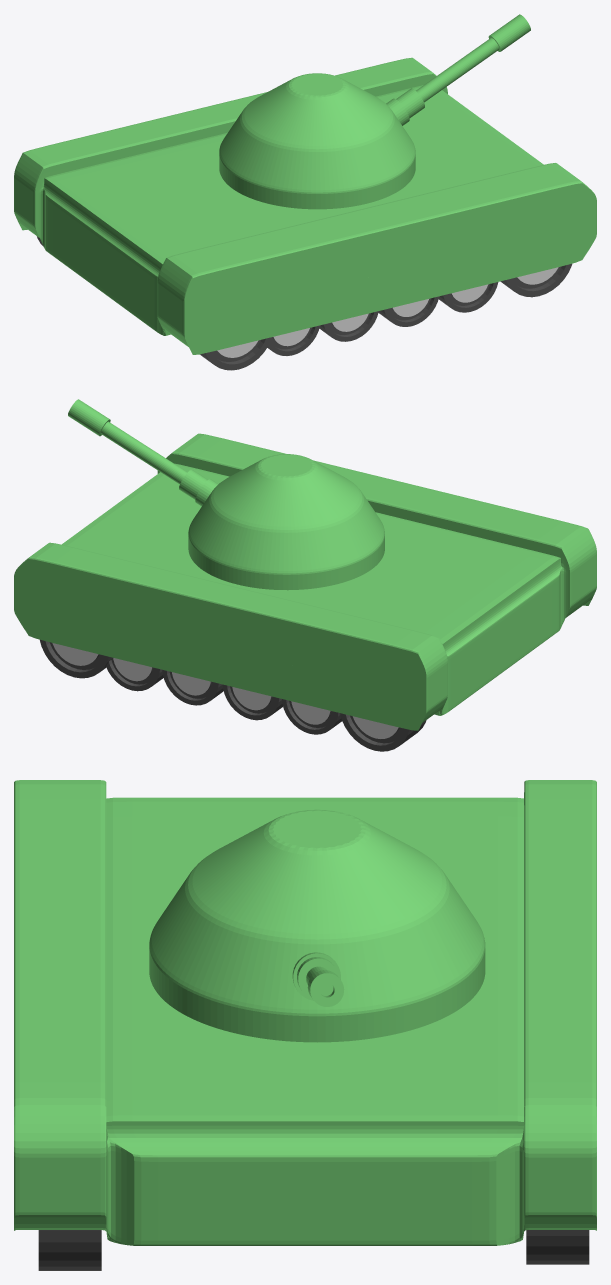
Rendered from Meme_tank.fbx.
The picture shows the model from 3 angles, top to bottom: view 1: azimuth 30°, elevation 25°; view 2: azimuth 150°, elevation 25°; view 3: azimuth 270°, elevation 25°; orthographic projection. The views are drawn at different scales.
Parts seen in each view (by area): view 1: Cube, Cylinder.012, Cylinder.006, Cylinder.007, Cylinder.009, Cylinder.008, Cylinder.010, Cylinder.011; view 2: Cube, Cylinder.012, Cylinder.001, Cylinder, Cylinder.004, Cylinder.002, Cylinder.003, Cylinder.005; view 3: Cube, Cylinder.007, Cylinder, Cylinder.012.
Part boxes in pixels (x1,y1,x2,y2): Cube: [14, 57, 596, 354]; Cylinder.012: [386, 14, 530, 125]; Cylinder.006: [200, 337, 271, 370]; Cylinder.007: [500, 263, 572, 297]; Cylinder.009: [378, 296, 439, 326]; Cylinder.008: [438, 282, 498, 312]; Cylinder.010: [319, 311, 378, 341]; Cylinder.011: [267, 325, 319, 355]; Cube: [14, 433, 596, 730]; Cylinder.012: [68, 399, 218, 506]; Cylinder.001: [340, 713, 426, 751]; Cylinder: [40, 639, 111, 678]; Cylinder.004: [162, 670, 223, 705]; Cylinder.002: [282, 699, 341, 734]; Cylinder.003: [222, 684, 282, 720]; Cylinder.005: [106, 657, 163, 691]; Cube: [14, 780, 596, 1245]; Cylinder.007: [38, 1230, 101, 1270]; Cylinder: [526, 1230, 589, 1264]; Cylinder.012: [292, 952, 344, 1006].
Size of the model in its own units: 695 by 311 by 471.
